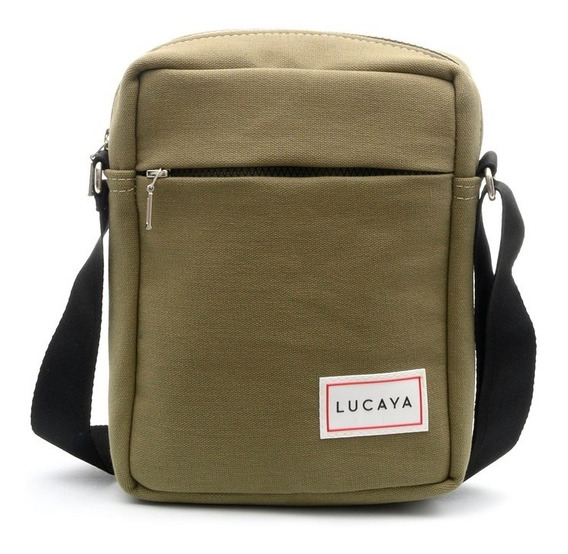cartera: (94, 26, 487, 510)
